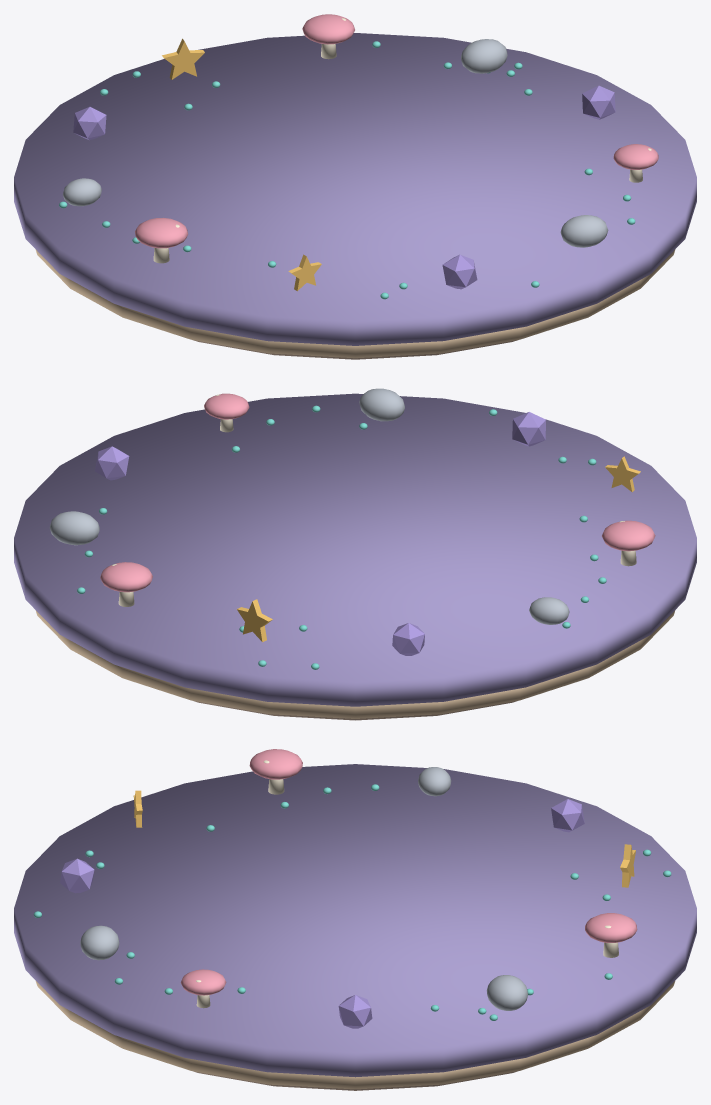
File: world.glb
3 views of the same model, one above another, from view 1: azimuth 30°, elevation 25°; view 2: azimuth 150°, elevation 25°; view 3: azimuth 270°, elevation 25° (orthographic).
Parts seen in each view (by area): view 1: Cone, Cone.001, mushroom.002, mushroom.001, stone.001, stone.003, mushroom.003, gem.001, gem.003, gem.002, stone.002, star.001 (+2 smaller); view 2: Cone, Cone.001, mushroom.002, mushroom.001, stone.001, stone.003, mushroom.003, gem.003, stone.002, gem.001, gem.002, star.001 (+2 smaller); view 3: Cone, Cone.001, mushroom.002, mushroom.001, stone.001, mushroom.003, stone.003, gem.003, gem.001, gem.002, stone.002, Cone.002.
Boxes of the visible parts, left/top/right/bottom form: Cone: left=14, top=33, right=696, bottom=345; Cone.001: left=35, top=249, right=675, bottom=358; mushroom.002: left=135, top=217, right=188, bottom=263; mushroom.001: left=302, top=14, right=354, bottom=59; stone.001: left=461, top=39, right=507, bottom=73; stone.003: left=560, top=215, right=608, bottom=247; mushroom.003: left=613, top=144, right=658, bottom=182; gem.001: left=582, top=85, right=615, bottom=119; gem.003: left=442, top=254, right=477, bottom=289; gem.002: left=73, top=107, right=106, bottom=140; stone.002: left=63, top=178, right=101, bottom=206; star.001: left=162, top=38, right=204, bottom=79; Cone: left=14, top=393, right=696, bottom=706; Cone.001: left=35, top=610, right=675, bottom=718; mushroom.002: left=602, top=520, right=655, bottom=566; mushroom.001: left=100, top=562, right=152, bottom=606; stone.001: left=49, top=511, right=99, bottom=545; stone.003: left=359, top=388, right=404, bottom=421; mushroom.003: left=204, top=393, right=249, bottom=432; gem.003: left=512, top=412, right=545, bottom=446; stone.002: left=529, top=597, right=569, bottom=624; gem.001: left=95, top=446, right=129, bottom=480; gem.002: left=392, top=623, right=424, bottom=655; star.001: left=237, top=599, right=272, bottom=642; Cone: left=14, top=764, right=696, bottom=1077; Cone.001: left=35, top=981, right=675, bottom=1089; mushroom.002: left=249, top=749, right=302, bottom=794; mushroom.001: left=585, top=913, right=637, bottom=957; stone.001: left=486, top=975, right=527, bottom=1010; mushroom.003: left=180, top=969, right=226, bottom=1008; stone.003: left=80, top=925, right=119, bottom=960; gem.003: left=60, top=858, right=94, bottom=893; gem.001: left=338, top=995, right=372, bottom=1028; gem.002: left=551, top=799, right=584, bottom=832; stone.002: left=418, top=767, right=451, bottom=796; Cone.002: left=193, top=1071, right=517, bottom=1090.
Size of the model in its own units: 9.6 by 1.49 by 9.6.
